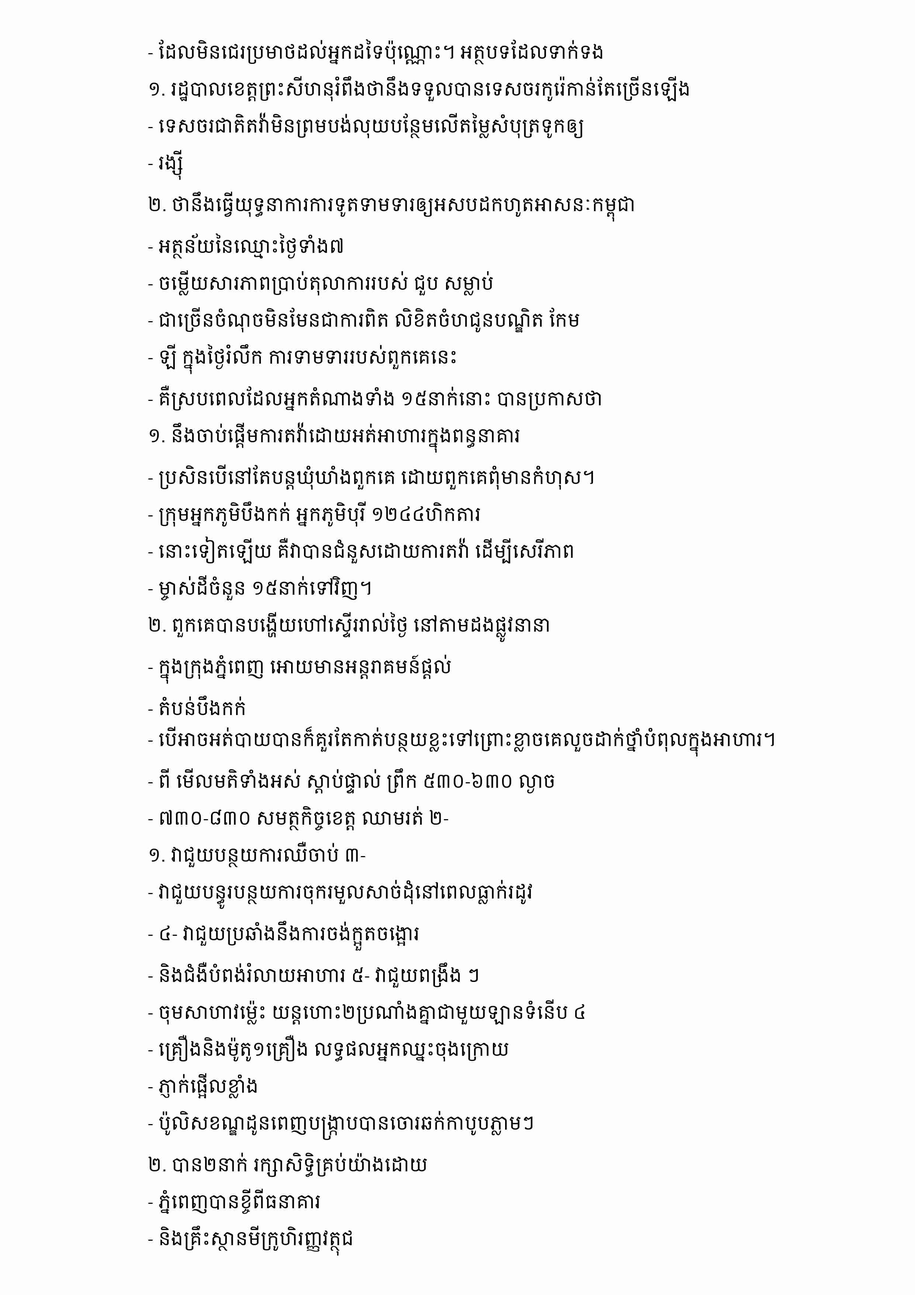text: (148, 726, 781, 757), (148, 192, 640, 222), (148, 76, 695, 102), (148, 612, 556, 642), (148, 536, 580, 564), (148, 39, 609, 65), (148, 385, 608, 411), (148, 464, 600, 490), (148, 422, 525, 453), (148, 999, 591, 1025), (148, 112, 589, 138), (148, 307, 585, 333), (148, 1111, 539, 1140), (148, 880, 538, 909), (148, 768, 560, 794), (148, 1035, 514, 1062), (148, 344, 463, 374), (148, 270, 499, 296), (148, 655, 457, 684), (148, 501, 486, 527), (148, 962, 485, 988), (148, 921, 425, 951), (148, 806, 454, 831), (148, 1153, 433, 1177), (148, 1226, 359, 1256), (148, 575, 377, 601), (148, 842, 371, 868), (148, 233, 349, 259), (148, 1189, 326, 1214), (148, 1073, 263, 1099), (148, 695, 252, 715), (148, 150, 188, 180)
